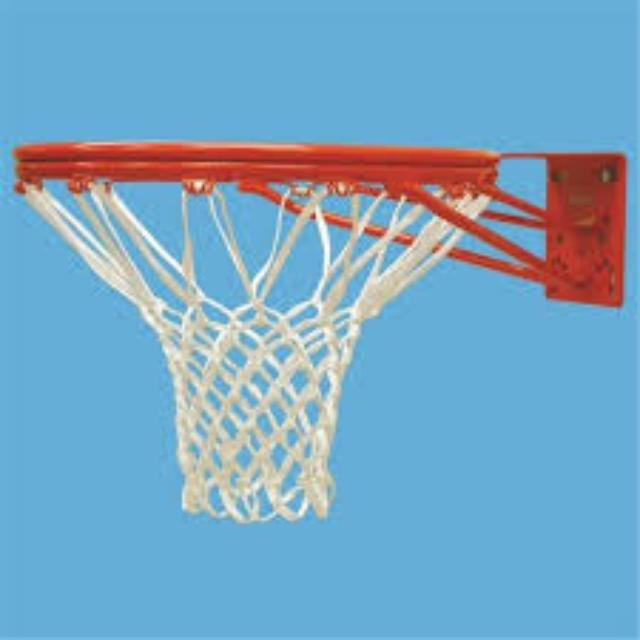rim: (14, 140, 496, 520)
